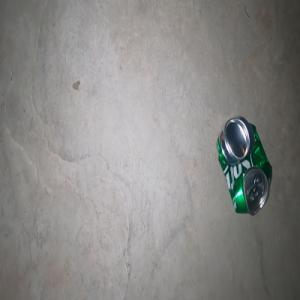SodaCan: (216, 116, 272, 216)
